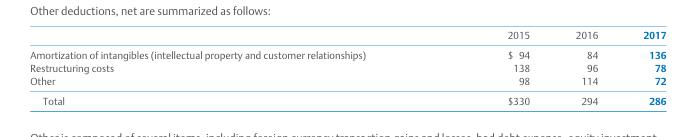table: (29, 28, 665, 106)
table column: (29, 28, 435, 106), (435, 28, 554, 106), (554, 28, 622, 106), (622, 28, 665, 106)
table column header: (29, 28, 665, 44)
table row: (29, 73, 665, 90), (29, 28, 665, 44), (29, 44, 665, 60), (29, 90, 665, 106), (29, 60, 665, 73)
